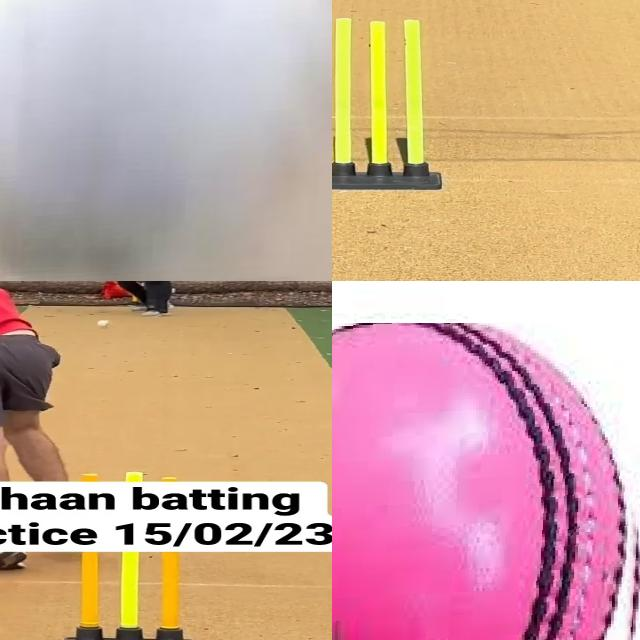Cricket ball: (332, 323, 640, 640), (0, 0, 332, 281), (96, 321, 110, 328)
Stumps: (332, 15, 443, 191), (65, 551, 194, 640)
